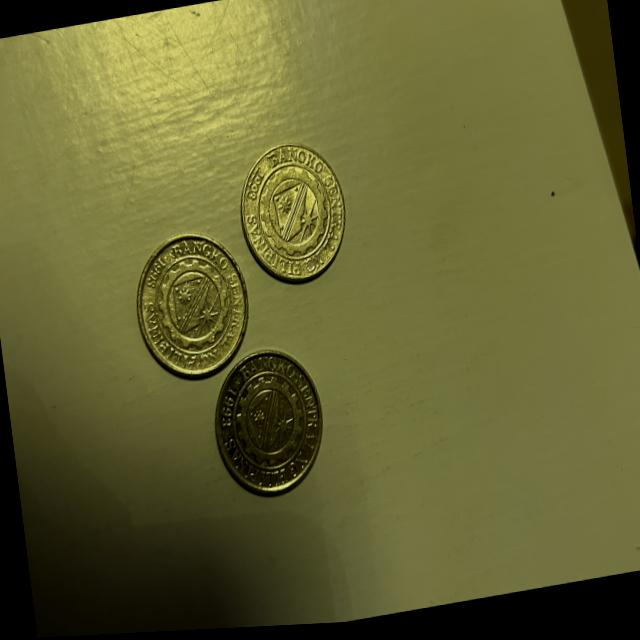1_Old_Back: (218, 365, 314, 484), (150, 255, 238, 367), (254, 162, 336, 265)
